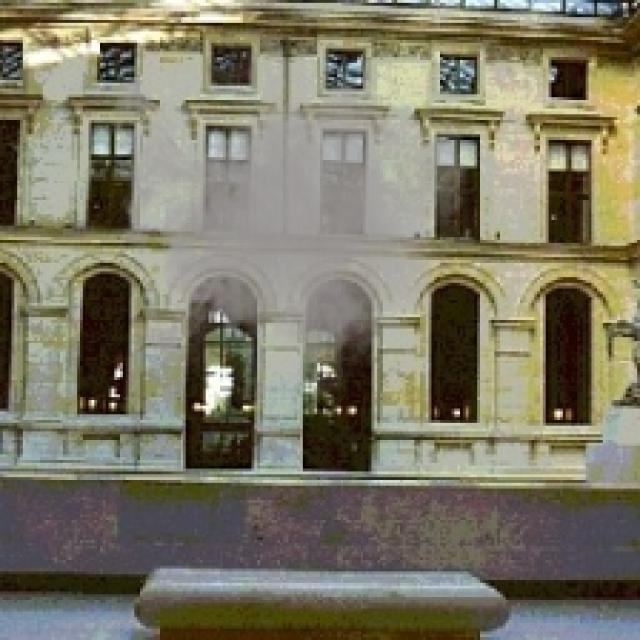smoke: (100, 17, 474, 423)
